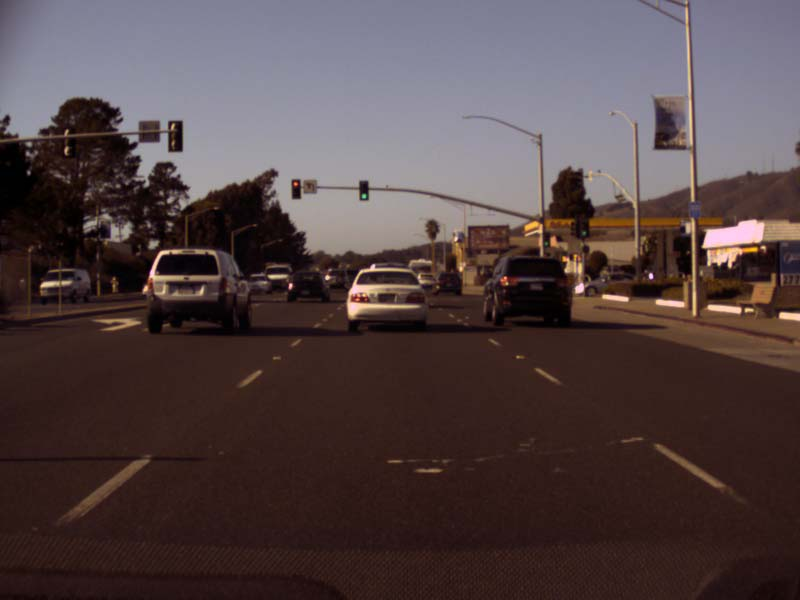Green: (359, 180, 368, 200), (579, 220, 588, 237), (543, 232, 549, 246)
Red: (291, 179, 300, 198)
